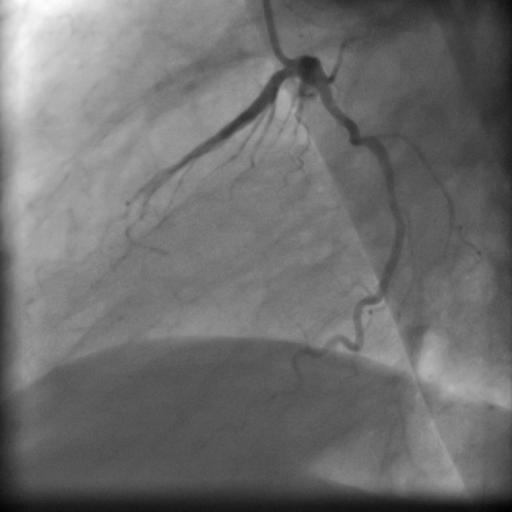Stenosis: (351, 123, 374, 158)
